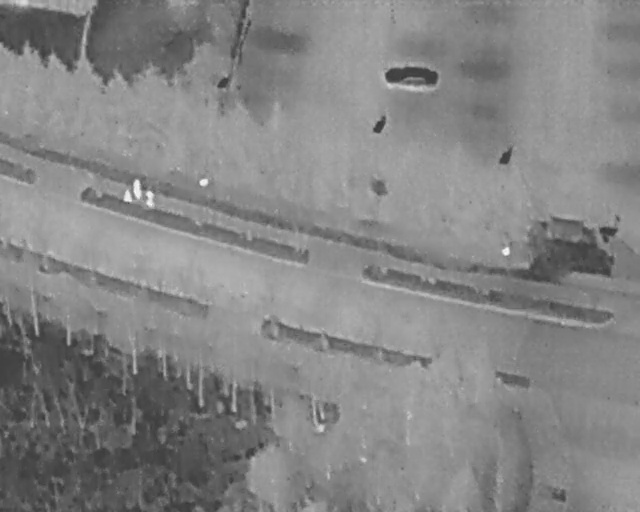Car: (526, 216, 615, 273), (385, 65, 439, 89)
Person: (146, 188, 156, 210), (132, 177, 141, 200), (122, 189, 131, 204)
